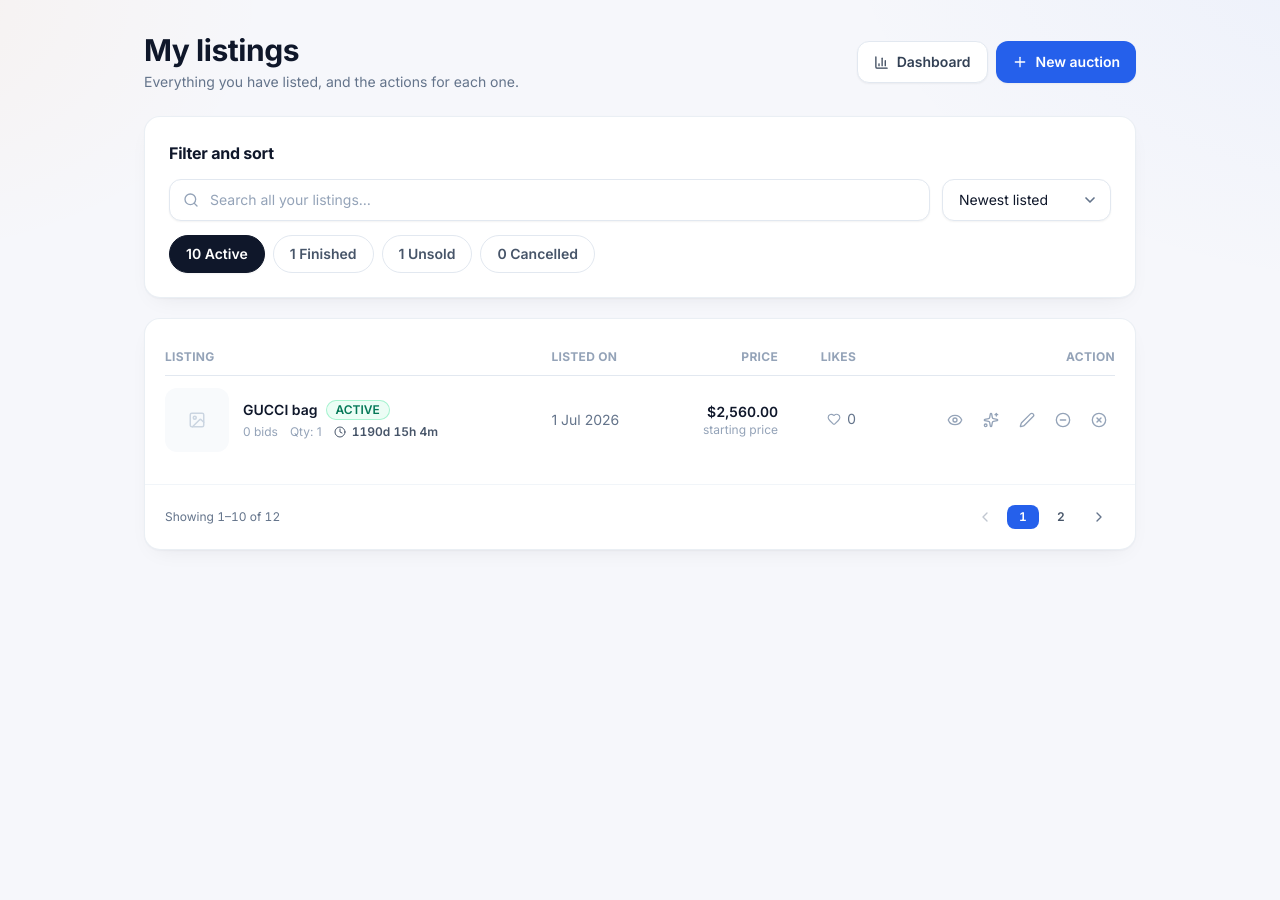
Test: removing items › the last item cannot be removed without a reason
Click the button named "remove the last item" at (1063, 420), box 1047,404 -> 1079,436
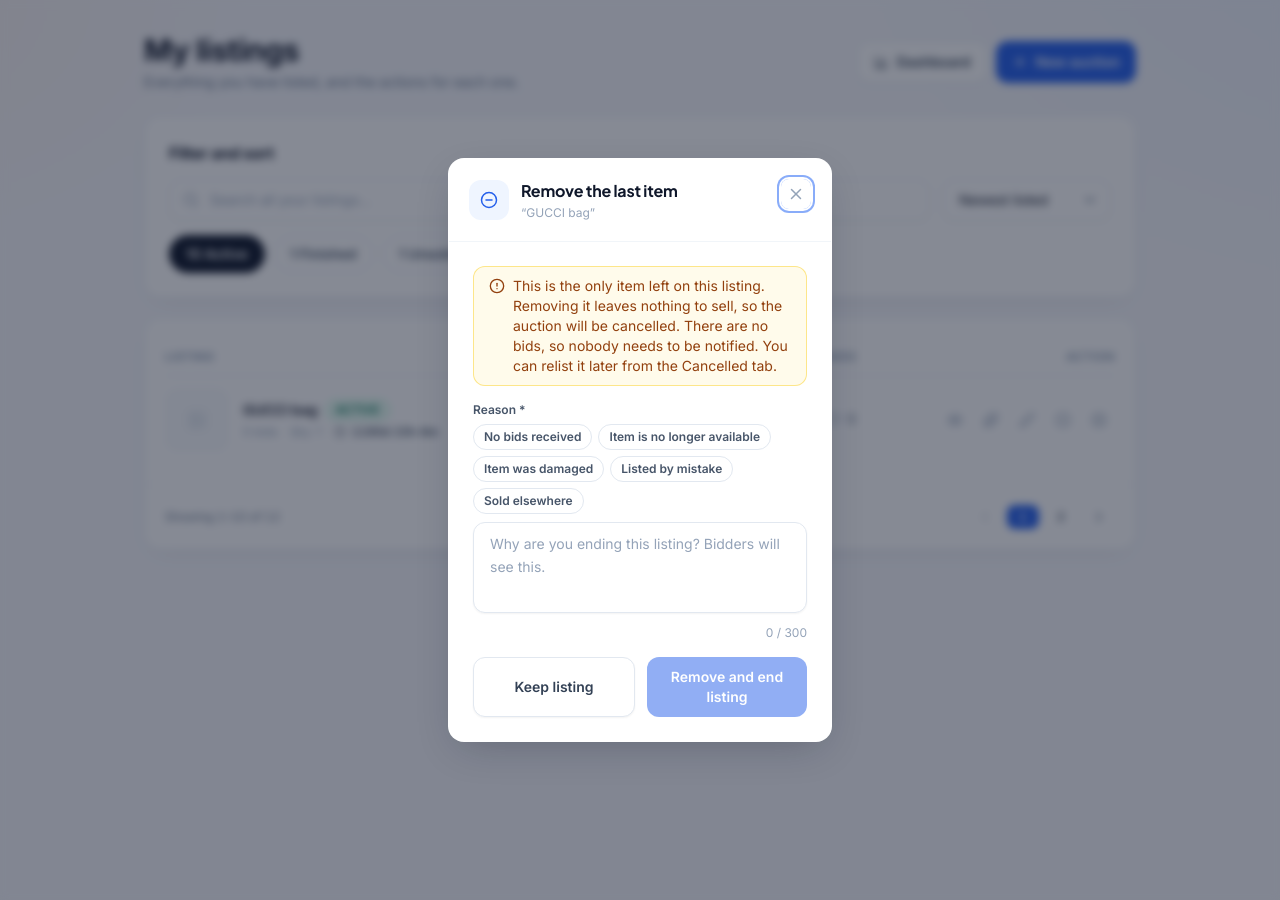
Expected: the button "Remove and end listing" is disabled, 647,657 -> 807,717
